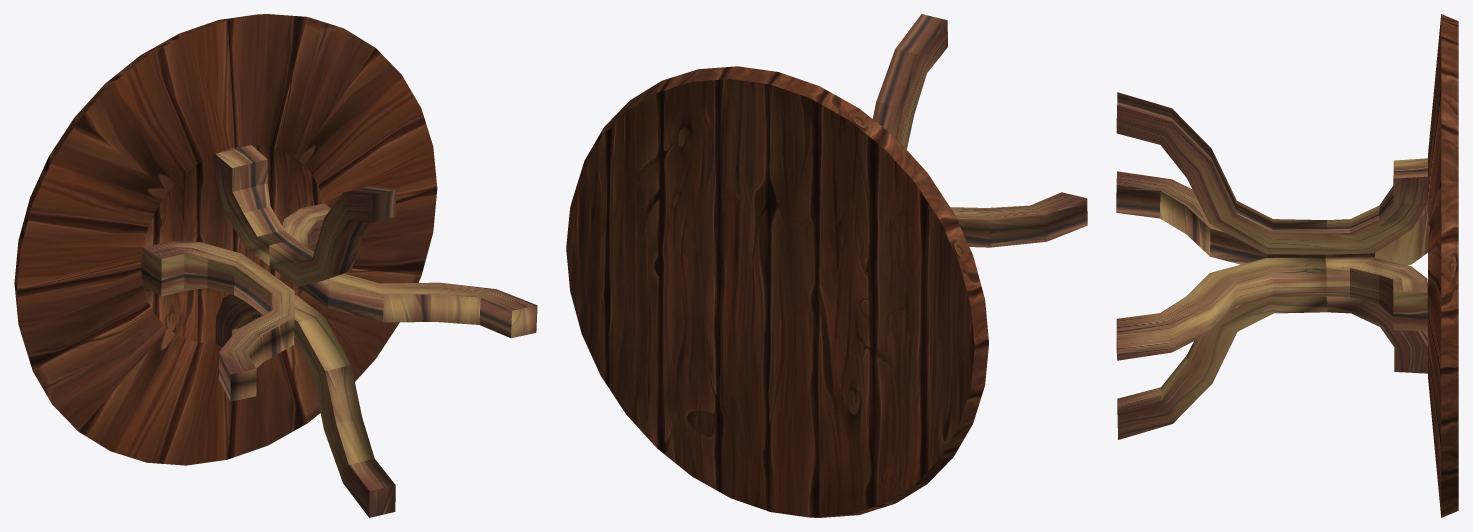
The model's file is Table.fbx.
3 renders of one model, left to right at view 1: azimuth 30°, elevation 25°; view 2: azimuth 150°, elevation 25°; view 3: azimuth 270°, elevation 25°, orthographic. The views are drawn at different scales.
Visible parts, largest first — view 1: Table; view 2: Table; view 3: Table.
Part boxes in pixels (x1,y1,x2,y2): Table: (14, 14, 537, 517); Table: (566, 14, 1087, 517); Table: (1116, 14, 1458, 517).
Bounding box in the file's own units: 436 × 436 × 296.
